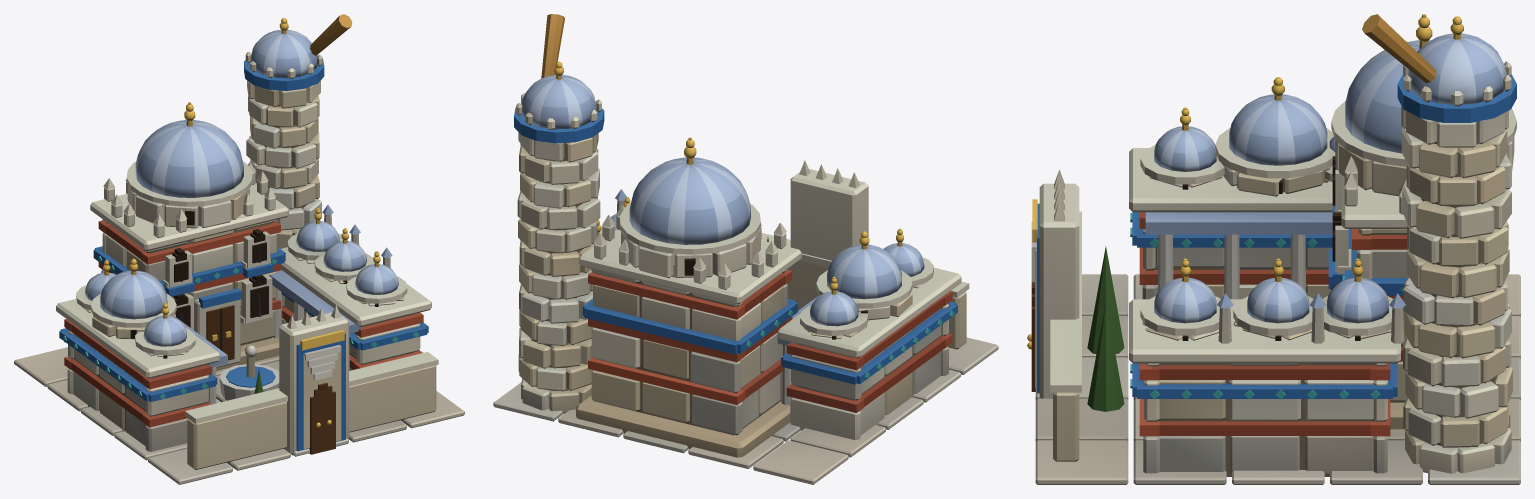
The model's file is b_medrese.glb.
The picture shows the model from 3 angles, left to right: view 1: azimuth 30°, elevation 25°; view 2: azimuth 150°, elevation 25°; view 3: azimuth 270°, elevation 25°; orthographic projection. The views are drawn at different scales.
Parts seen in each view (by area): view 1: b_medrese, L2, L3; view 2: b_medrese, L2, L3; view 3: b_medrese, L3, L2.
Boxes of the visible parts, <box> form: b_medrese: <box>14,102,464,484</box>; L2: <box>56,258,227,451</box>; L3: <box>244,14,352,248</box>; b_medrese: <box>493,137,998,484</box>; L2: <box>777,228,961,440</box>; L3: <box>514,14,604,413</box>; b_medrese: <box>1027,14,1520,484</box>; L3: <box>1362,14,1516,473</box>; L2: <box>1129,77,1335,299</box>.
Size of the model in its own units: 0.7348 by 0.7739 by 0.745.
